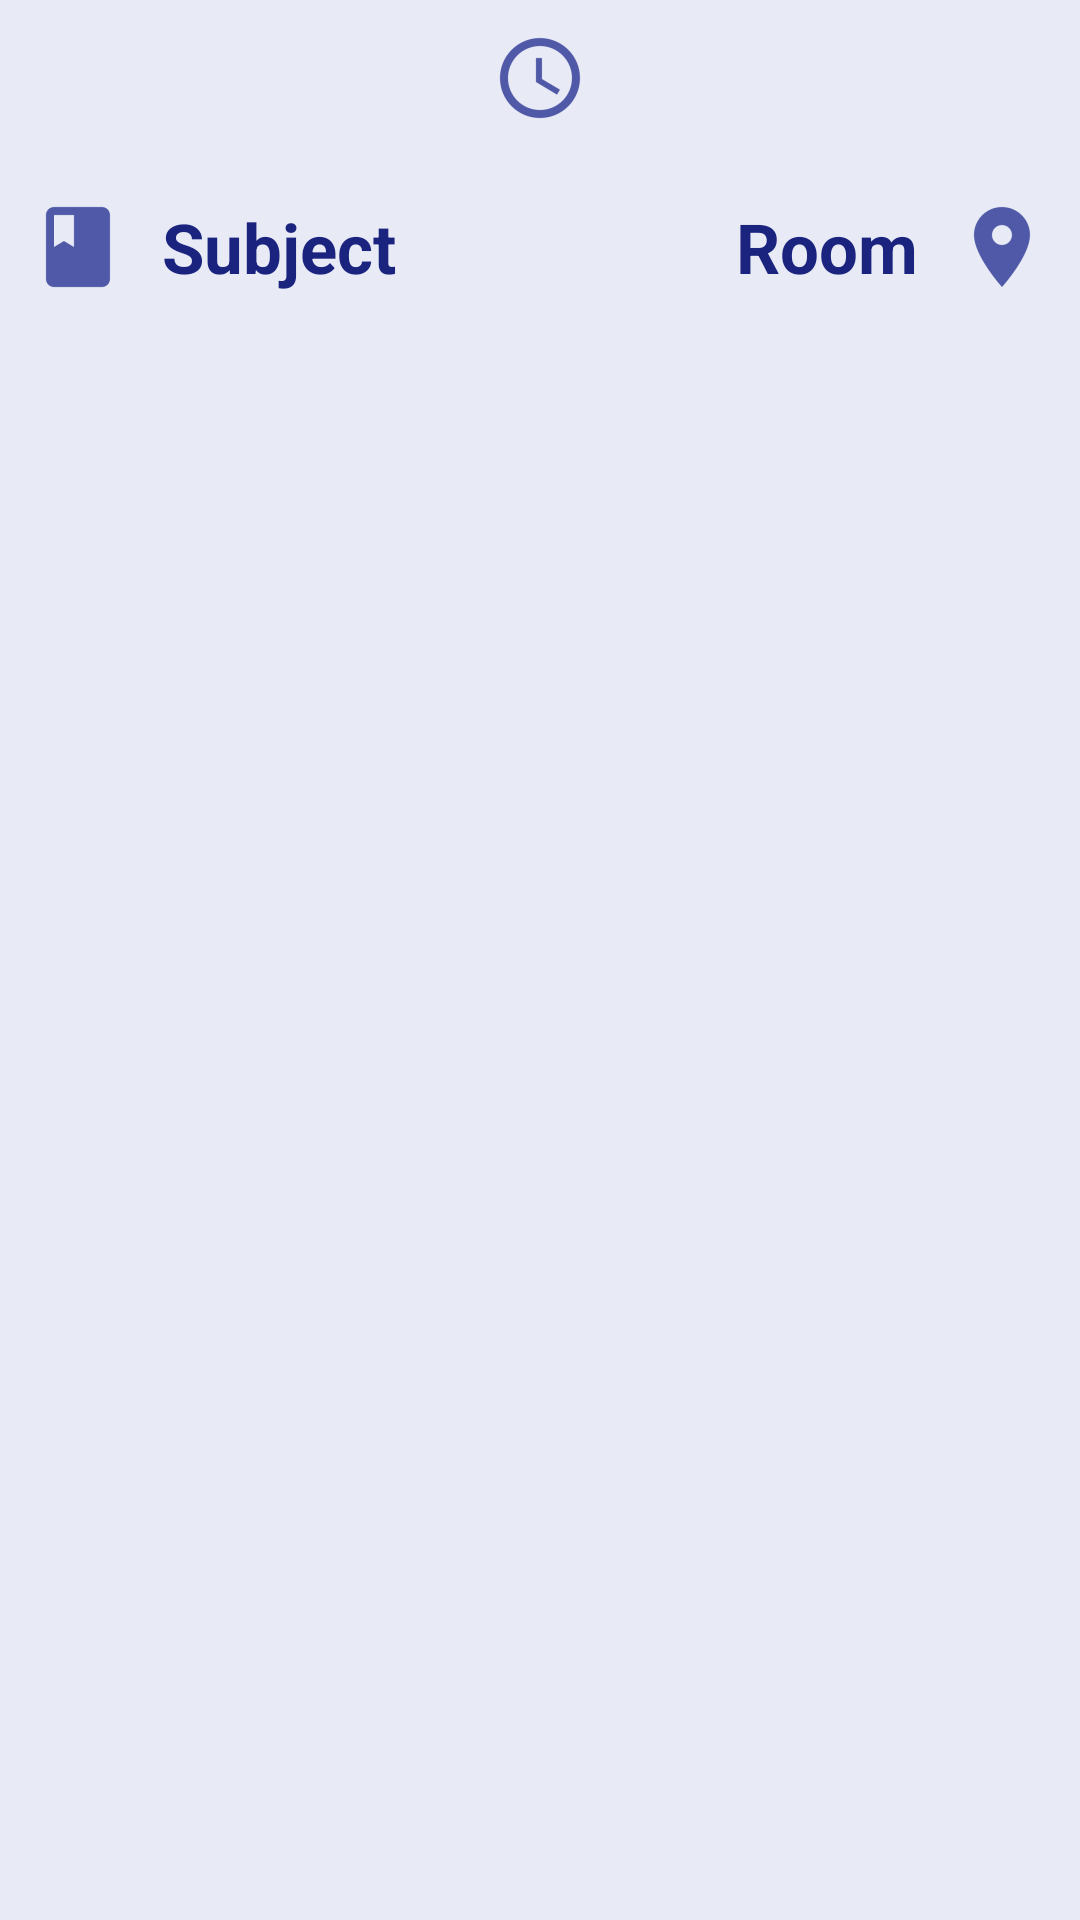

Point at icon controls on the screen. Image size 1080×1920, points as (x,y).
loc: (1002,247)
